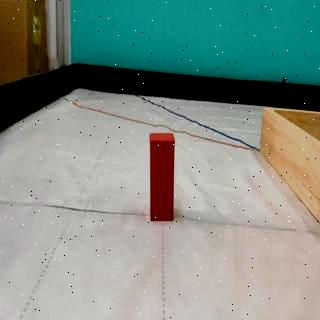redbox: (149, 132, 174, 220)
